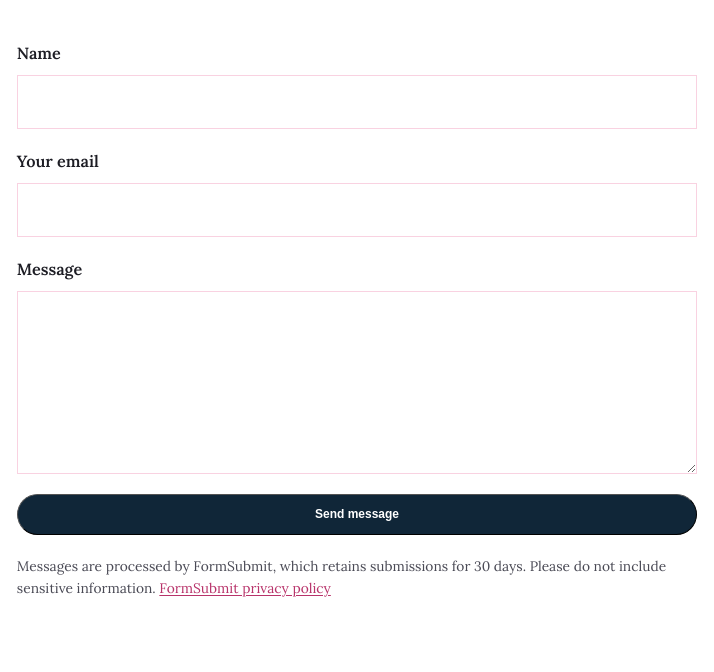
Test: ContactForm › sends the message to FormSubmit and acknowledges acceptance without leaving the site
Step 1. Type "A visitor" into the field labelled "Name" → (357,102), box [17, 75, 697, 128]
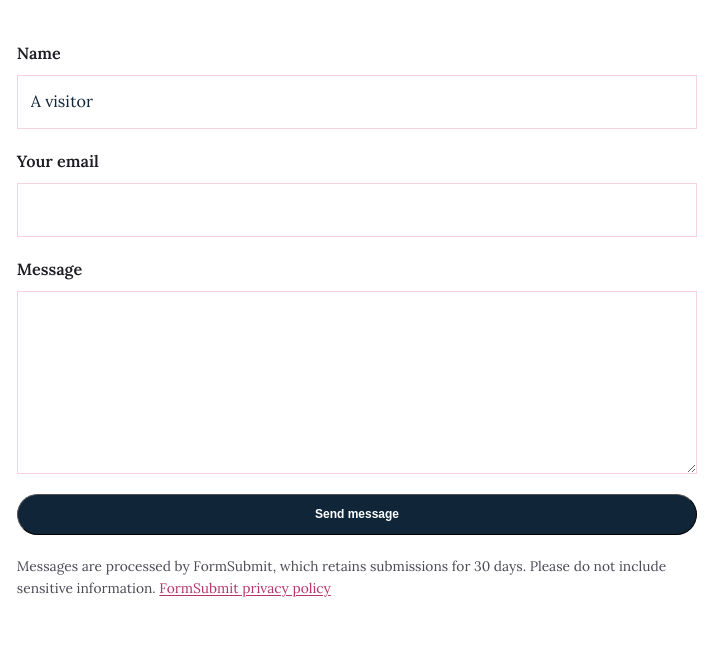
Step 2. Type "visitor@example.test" into the field labelled "Your email" → (357,210), box [17, 183, 697, 237]
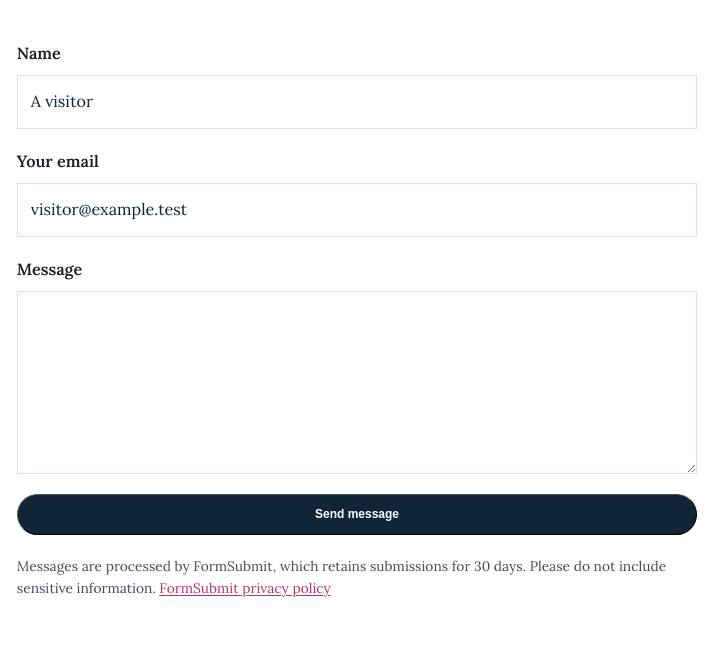
Step 3. Type "I would like to learn more about the chapter." into the text box labelled "Message" → (357,382), box [17, 291, 697, 474]
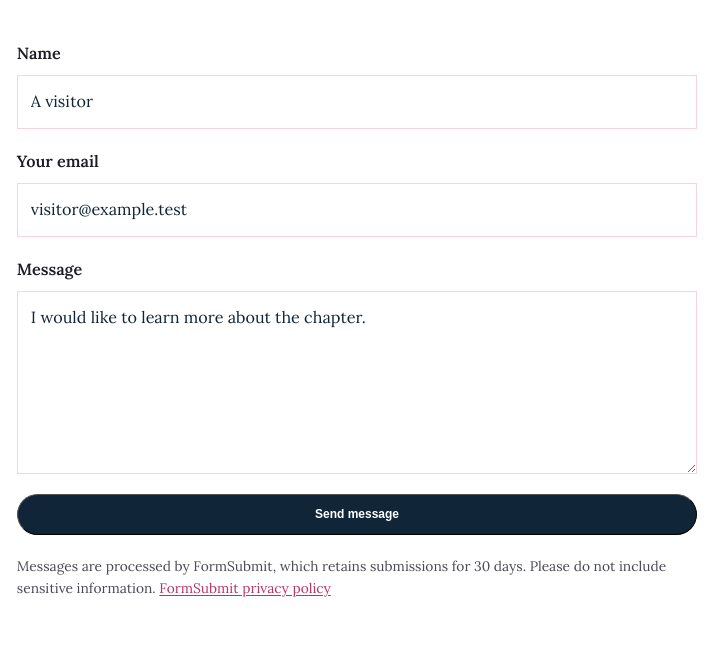
Step 4. Submit the form
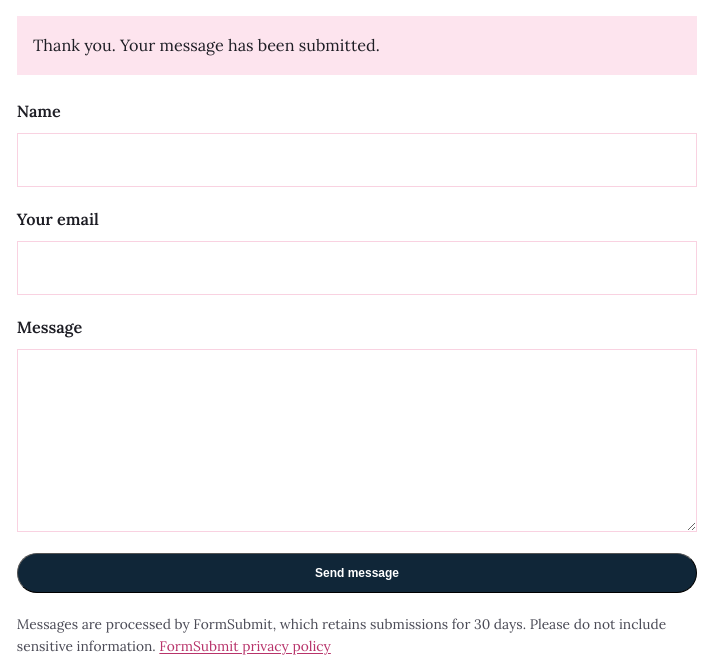
Expected: the message does not show "delivered", [17, 16, 697, 75]
Now the message shows "Your message has been submitted.", box [33, 35, 380, 55]
Now the text box labelled "Message" is empty, box [17, 349, 697, 532]
